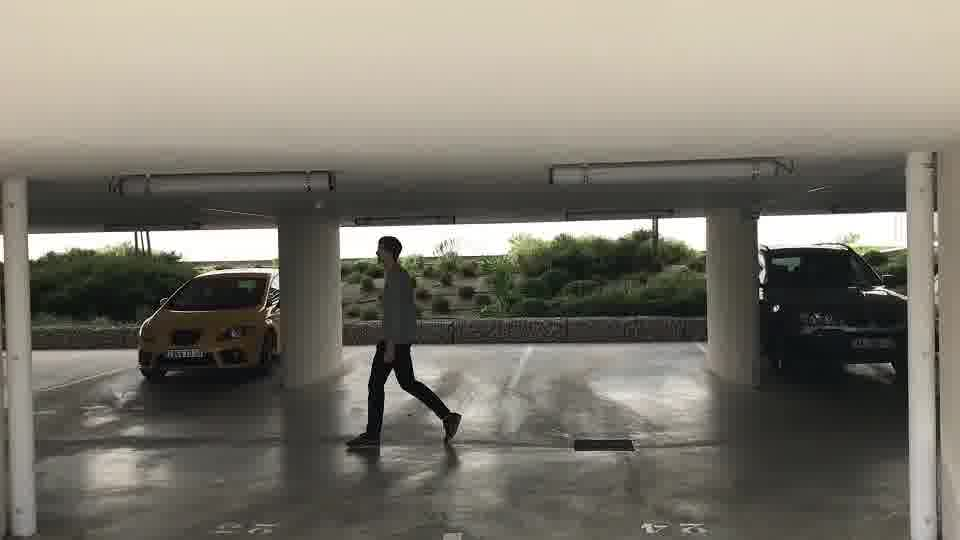jugador: (344, 229, 465, 457)
